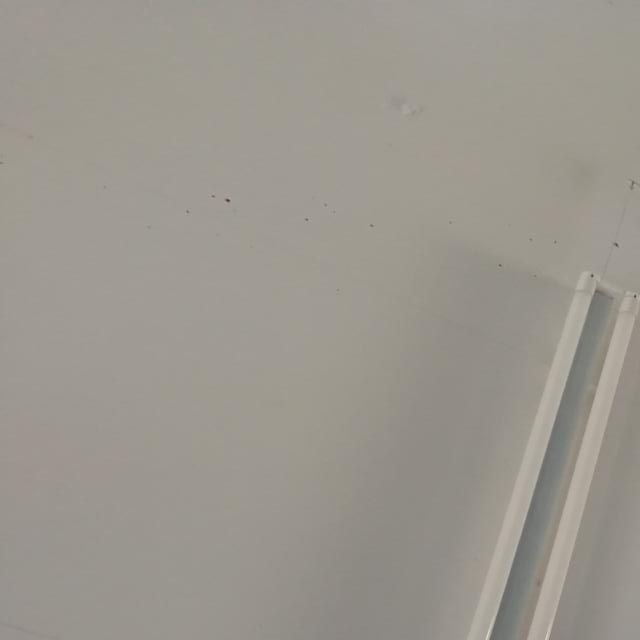fluorescent tube: (357, 257, 640, 640)
